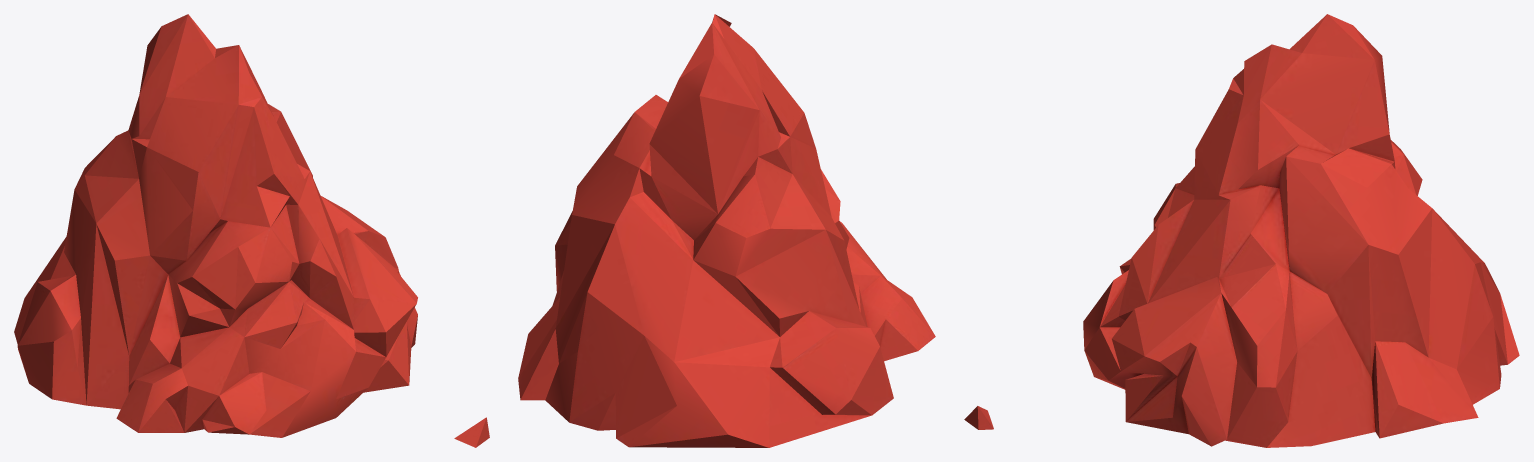
Rendered from d_fels.glb.
The picture shows the model from 3 angles, left to right: view 1: azimuth 30°, elevation 25°; view 2: azimuth 150°, elevation 25°; view 3: azimuth 270°, elevation 25°; orthographic projection. The views are drawn at different scales.
Bounding box in the file's own units: 1.37 × 1.31 × 1.9.
1 material, 1 textured.
